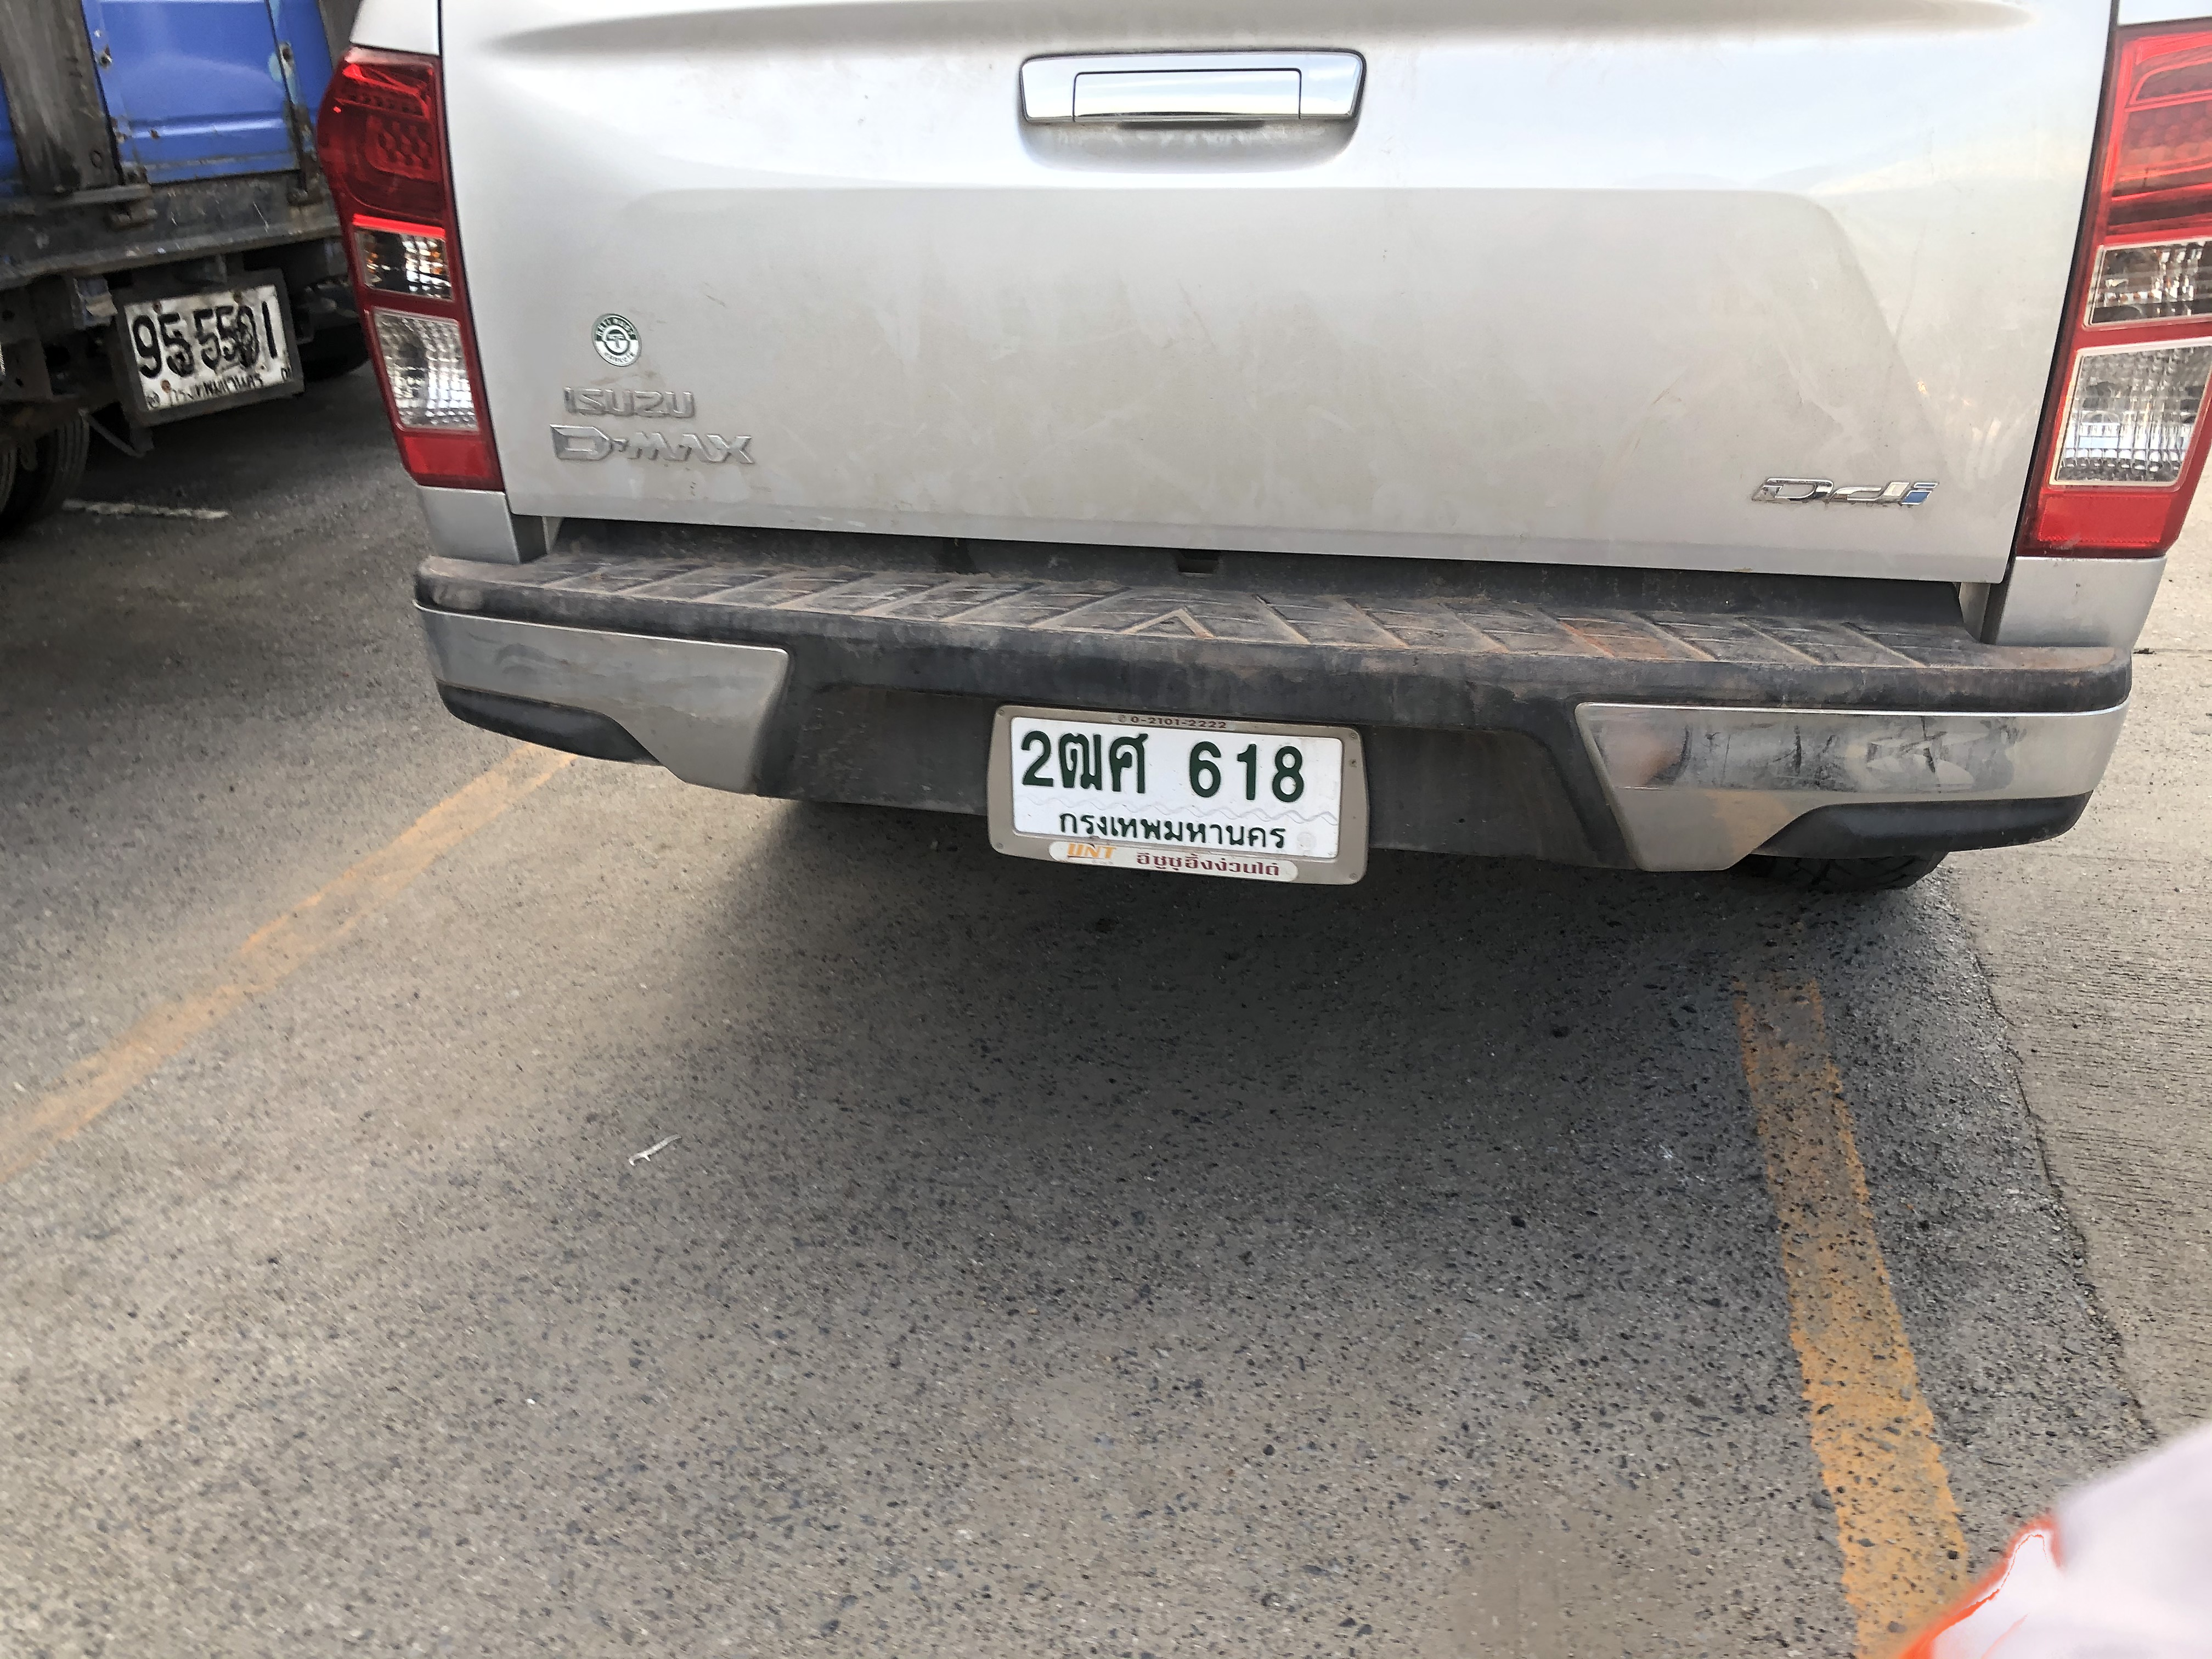in: (1012, 720, 1339, 859)
out: (981, 699, 1376, 887)
